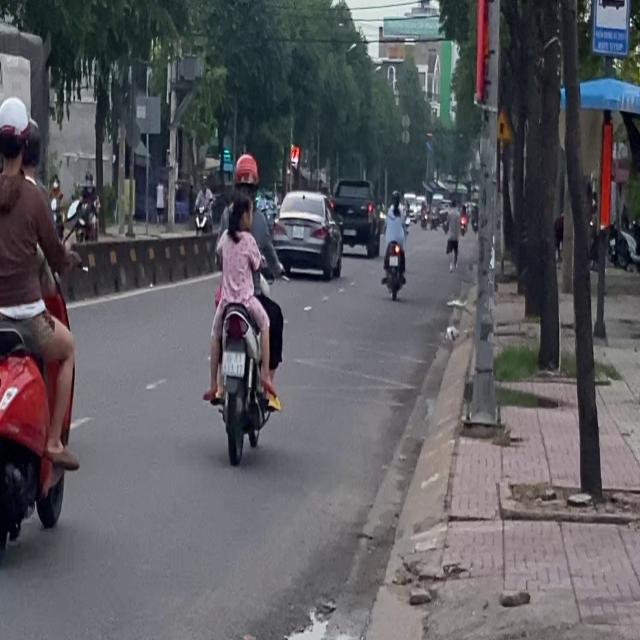helmet: (0, 95, 31, 172), (232, 152, 258, 198)
licenseplate: (0, 92, 81, 565), (201, 150, 285, 463)
motorcyclist: (227, 190, 253, 234)
nohelmet: (222, 350, 245, 375)
